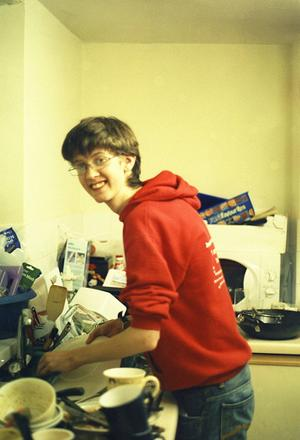person: (38, 114, 256, 438)
